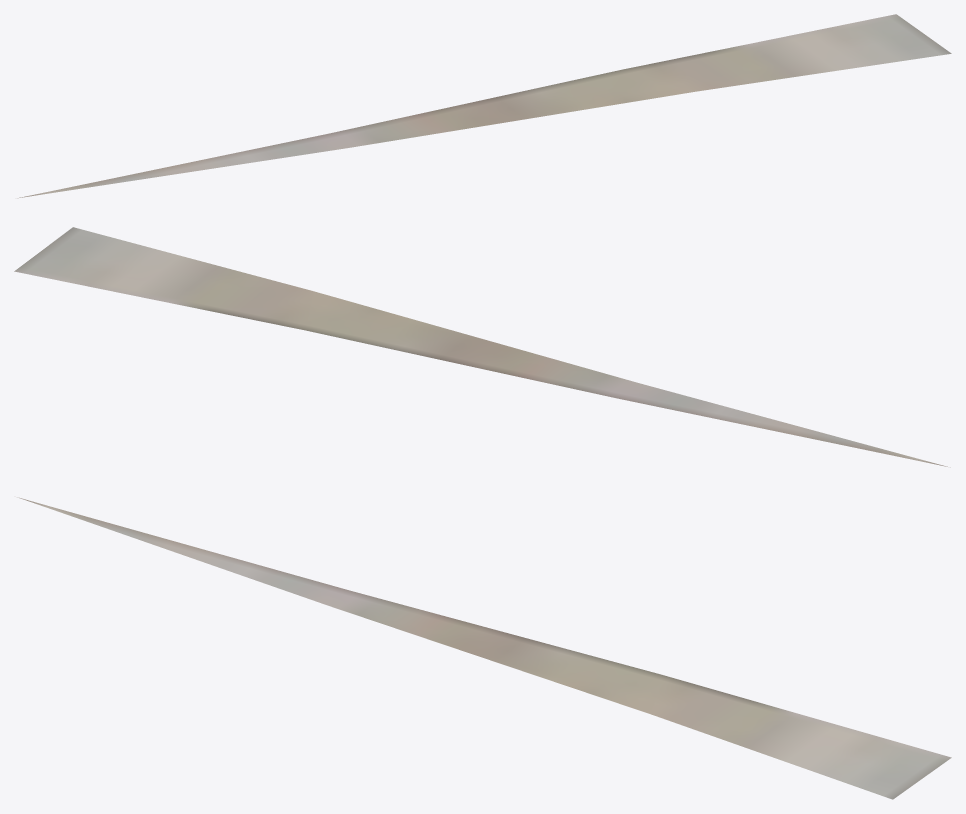
File: CM_Terrain_24487797_6818565.fbx
3 renders of one model, top to bottom at view 1: azimuth 30°, elevation 25°; view 2: azimuth 150°, elevation 25°; view 3: azimuth 330°, elevation 25°, orthographic. The views are drawn at different scales.
Visible parts, largest first — view 1: CM_Terrain_24487797_6818565_LOD0; view 2: CM_Terrain_24487797_6818565_LOD0; view 3: CM_Terrain_24487797_6818565_LOD0.
Boxes of the visible parts, x1,y1,x2,y2 form: CM_Terrain_24487797_6818565_LOD0: (17,14,951,198); CM_Terrain_24487797_6818565_LOD0: (14,227,950,467); CM_Terrain_24487797_6818565_LOD0: (17,497,951,799).
Size of what is drawn, in the model's own units: 9.03 by 0.2987 by 0.9854.
